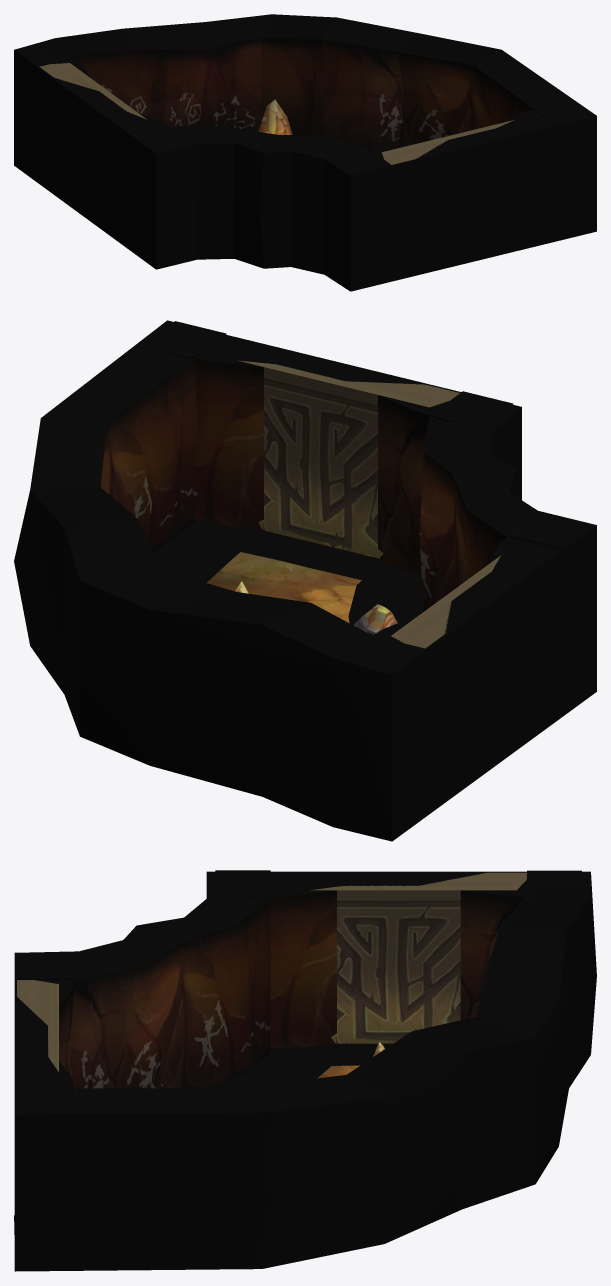
File: Dungeon_011_RoadL_002.fbx
The picture shows the model from 3 angles, top to bottom: view 1: azimuth 30°, elevation 25°; view 2: azimuth 150°, elevation 25°; view 3: azimuth 270°, elevation 25°; orthographic projection. The views are drawn at different scales.
Parts seen in each view (by area): view 1: Dan1, Dun_011_Door_002_old (×2), Dun_011_Door_002 (×2), Dun_011_Door_003_WarpRoom (×2), Dungeon_011_Object_011; view 2: Dan1, Dun_011_Door_002_old (×2), Dun_011_Door_003_WarpRoom (×2), Dun_011_Door_002 (×2), Dun_011_Door_002_shadow, Dan2, Dan1_shadow, Dungeon_011_Object_013; view 3: Dan1, Dun_011_Door_002_old (×2), Dun_011_Door_003_WarpRoom (×2), Dun_011_Door_002 (×2), Dun_011_Door_002_shadow, Dan1_shadow.
Part boxes in pixels (box(x1,y1,x2,y2)): Dan1: box(14, 14, 596, 291); Dun_011_Door_002_old (×2): box(18, 46, 590, 280); Dun_011_Door_002 (×2): box(37, 54, 589, 281); Dun_011_Door_003_WarpRoom (×2): box(39, 63, 513, 164); Dungeon_011_Object_011: box(258, 99, 292, 134); Dan1: box(14, 320, 596, 841); Dun_011_Door_002_old (×2): box(143, 321, 591, 814); Dun_011_Door_003_WarpRoom (×2): box(239, 360, 501, 648); Dun_011_Door_002 (×2): box(145, 322, 589, 816); Dun_011_Door_002_shadow: box(194, 520, 421, 585); Dan2: box(207, 552, 361, 622); Dan1_shadow: box(152, 523, 423, 625); Dungeon_011_Object_013: box(353, 604, 397, 634); Dan1: box(14, 871, 596, 1271); Dun_011_Door_002_old (×2): box(14, 870, 581, 1110); Dun_011_Door_003_WarpRoom (×2): box(17, 872, 526, 1071); Dun_011_Door_002 (×2): box(16, 870, 552, 1110); Dun_011_Door_002_shadow: box(270, 1043, 392, 1066); Dan1_shadow: box(14, 1051, 330, 1234).
Size of what is drawn, in the model's own units: 6.75 by 2.08 by 6.83.
